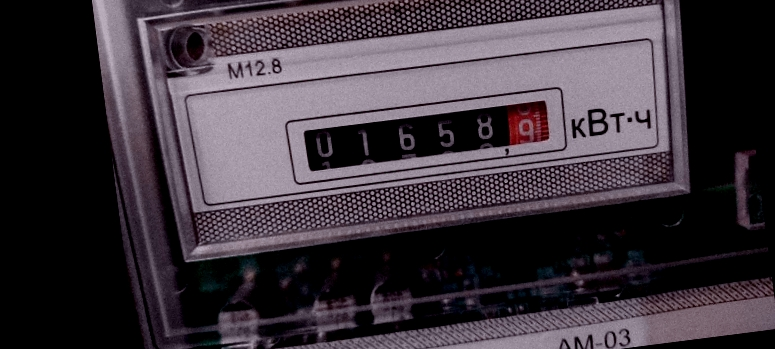0: (311, 125, 336, 159)
1: (355, 124, 372, 157)
5: (435, 115, 458, 149)
6: (395, 118, 419, 152)
8: (473, 108, 496, 142)
9: (515, 115, 536, 143)
screen: (276, 75, 575, 190)
